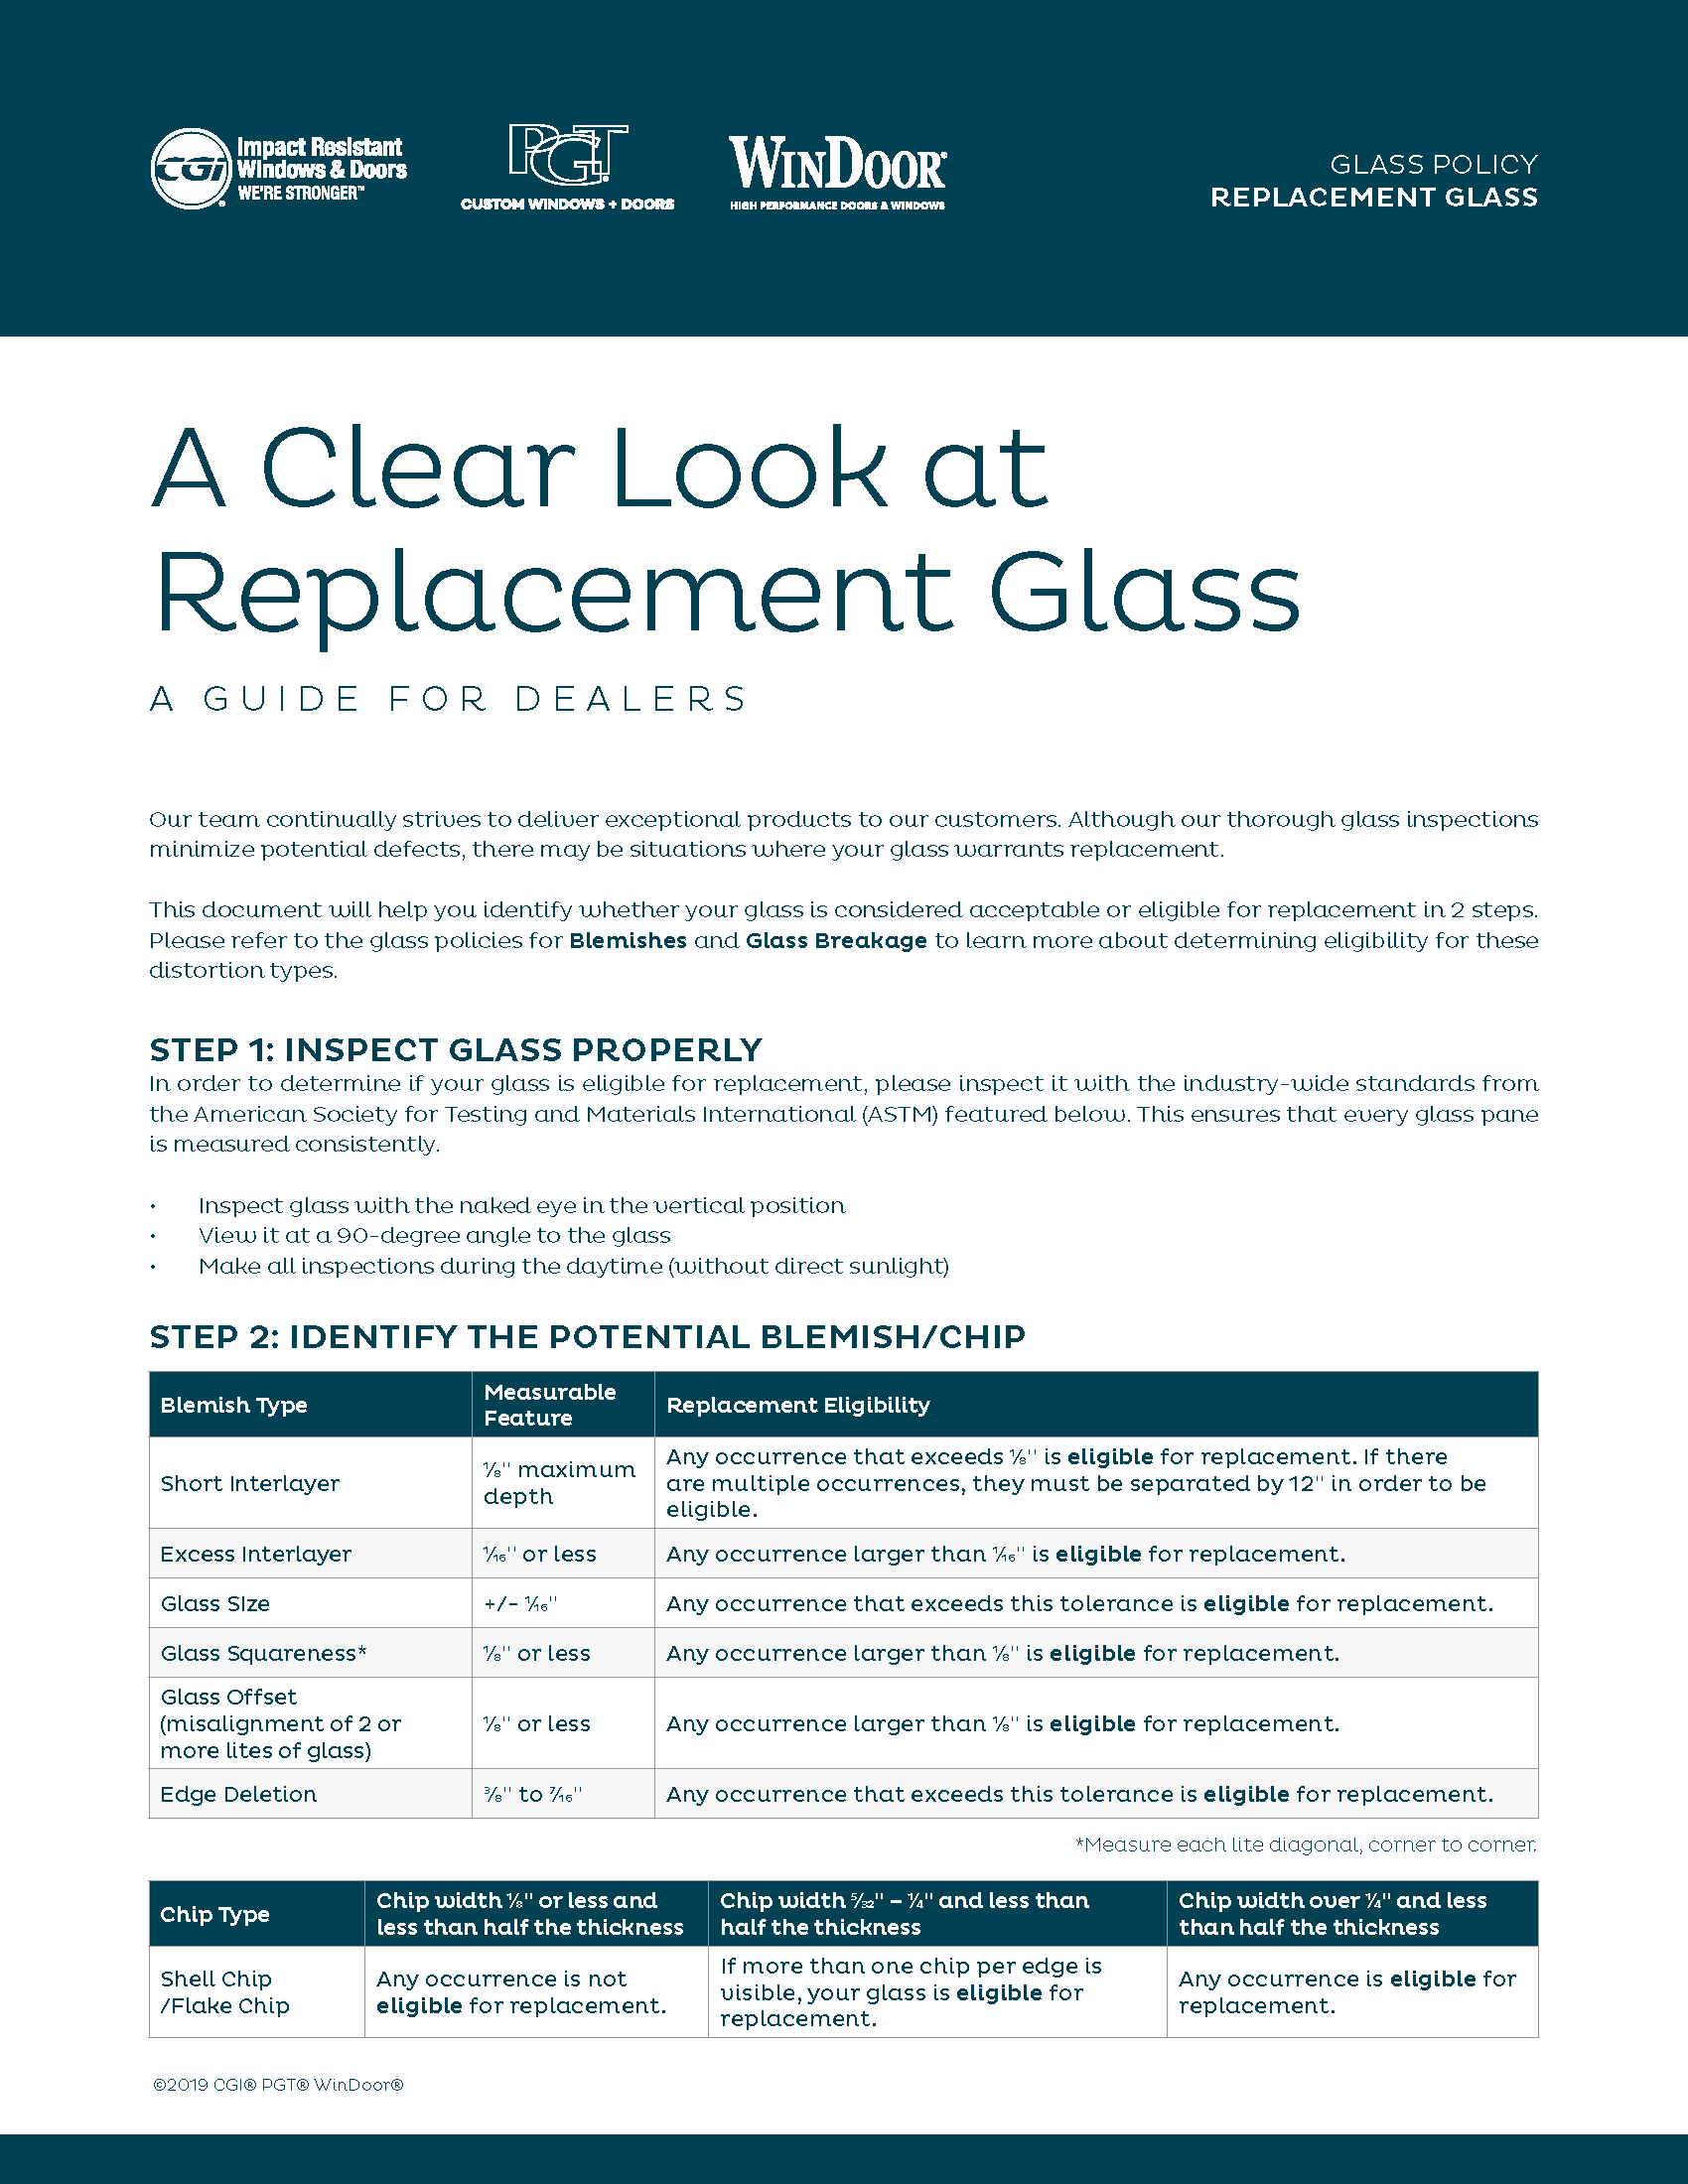tabledetected: (149, 1374, 1541, 1817), (149, 1883, 1541, 2039)
